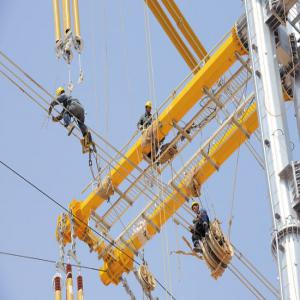yellow: (57, 87, 67, 100), (145, 102, 154, 116)
